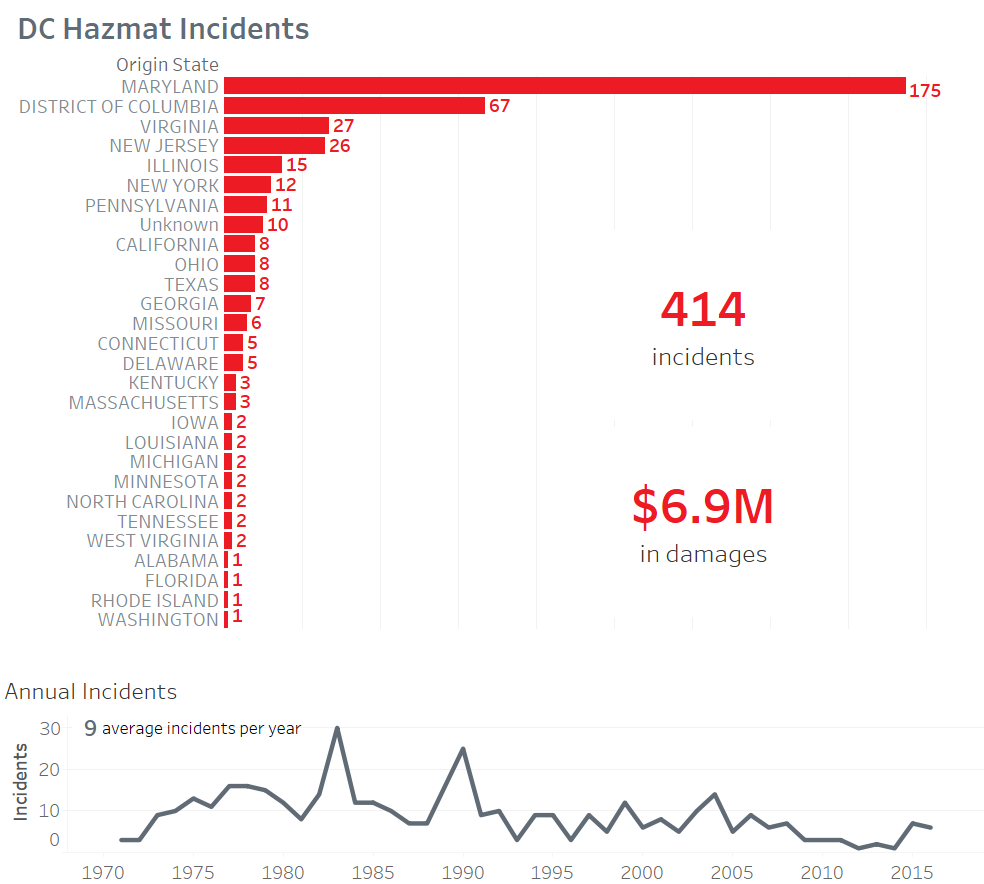

What the dashboard file says about the page in this screenshot:
{"tool":"tableau","page":{"name":"DC-Hazmat-Incidents","canvas":[1000,900],"ordinal":0},"visuals":[{"type":"worksheet","title":"by State","mark":"Bar","rows":["Origin State"],"cols":["Number of Records","Number of Records"],"box":[0,0,1000,640.6]},{"type":"worksheet","title":"Total Incidents","mark":"Automatic","box":[587,234,250,197]},{"type":"worksheet","title":"Total Damages","mark":"Automatic","box":[587,431,250,197]},{"type":"blank","box":[0,640.6,1000,32.4]},{"type":"worksheet","title":"Annual Incidents","mark":"Line","rows":["Number of Records"],"cols":["Date of Incident"],"box":[0,673,1000,227]},{"type":"text","box":[106,713,208,46]},{"type":"worksheet","title":"Annual Avg","mark":"Automatic","box":[80,718,30,36]}]}

Visuals, with their boxes in screenshot pixels (x1, y1, x2, y2), scaled from the page's 1000x900 canvas onto the 984x884 screenshot:
"by State" worksheet (Bar marks): 0/0/983/629
"Total Incidents" worksheet: 578/230/824/423
"Total Damages" worksheet: 578/423/824/617
blank: 0/629/983/661
"Annual Incidents" worksheet (Line marks): 0/661/983/883
text: 104/700/309/746
"Annual Avg" worksheet: 79/705/108/741
